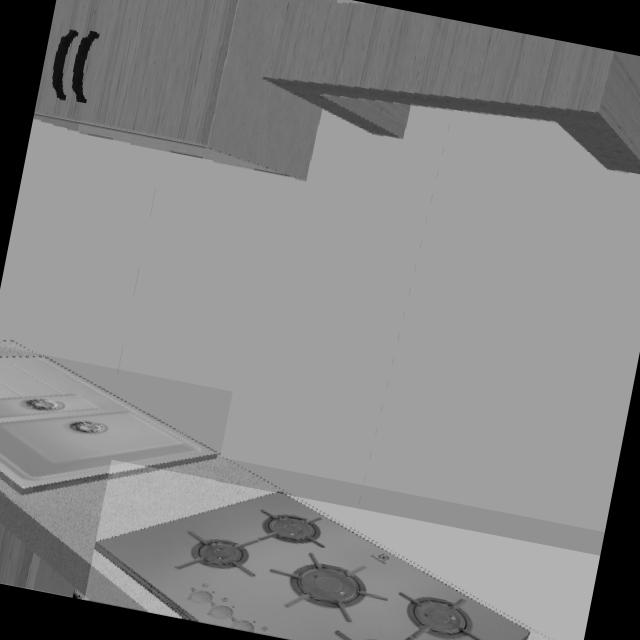countertop: (0, 457, 550, 640)
sink: (0, 352, 220, 500)
stove: (94, 494, 550, 640)
